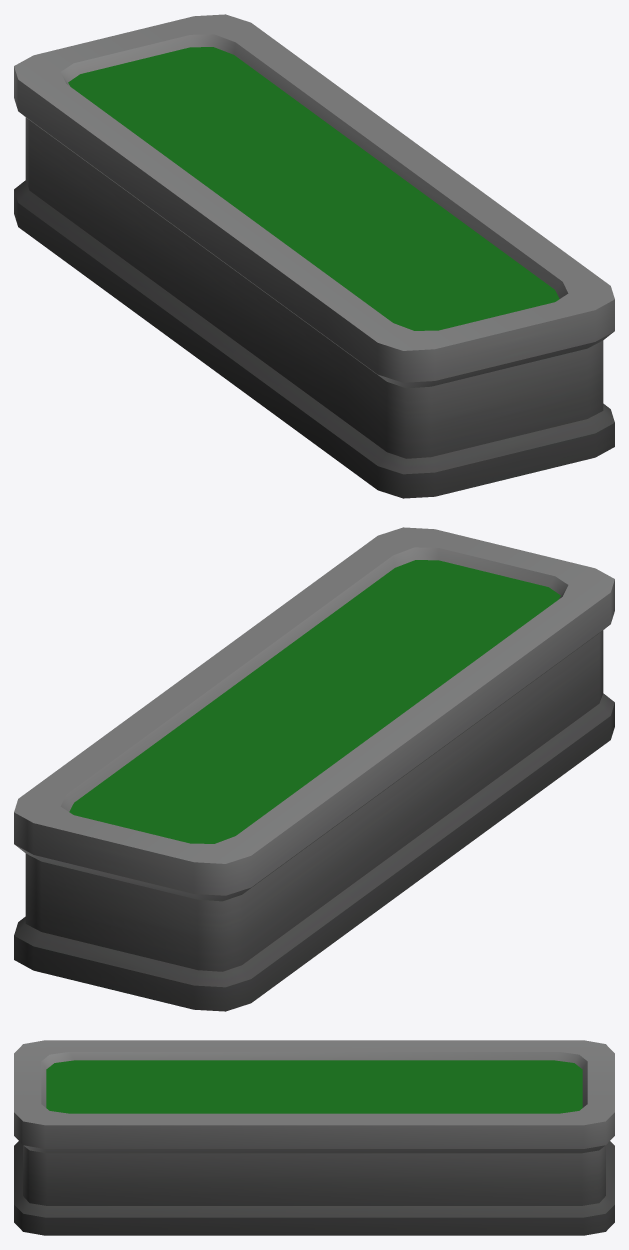
The model's file is FlowerPlacet_5_1_A.glb.
3 renders of one model, top to bottom at view 1: azimuth 30°, elevation 25°; view 2: azimuth 150°, elevation 25°; view 3: azimuth 270°, elevation 25°, orthographic. The views are drawn at different scales.
Visible parts, largest first — view 1: FlowerPlacet_5_1_A; view 2: FlowerPlacet_5_1_A; view 3: FlowerPlacet_5_1_A.
Part boxes in pixels (x1=…): FlowerPlacet_5_1_A: x1=14, y1=14, x2=614, y2=498; FlowerPlacet_5_1_A: x1=14, y1=527, x2=614, y2=1011; FlowerPlacet_5_1_A: x1=14, y1=1040, x2=614, y2=1235.
Size of the model in its own units: 1.43 by 0.8638 by 4.26.
Materials: 1 (1 with a texture image).
